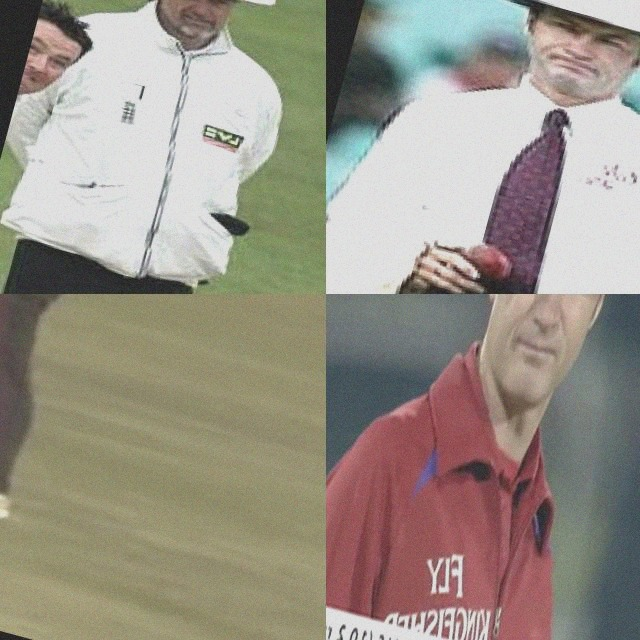No_Action: (326, 294, 640, 640), (0, 0, 326, 294), (0, 294, 183, 557)
Out: (326, 0, 640, 294)
